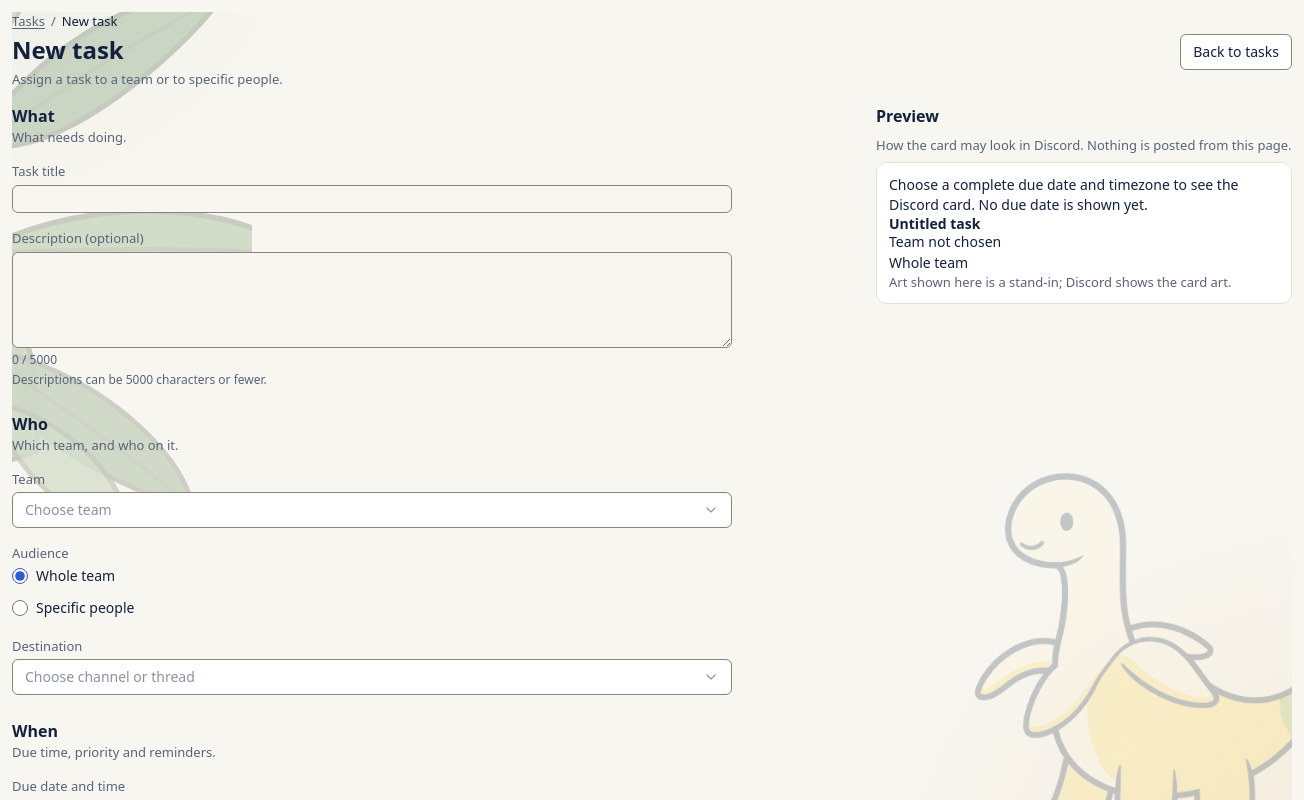
task creation › typing a title updates the card preview title
Check: the heading "Untitled task" is shown, box [889,214,980,233]
Type "Ship the poster" into the field labelled "Task title". click: (372, 199)
box: [12,185,732,213]
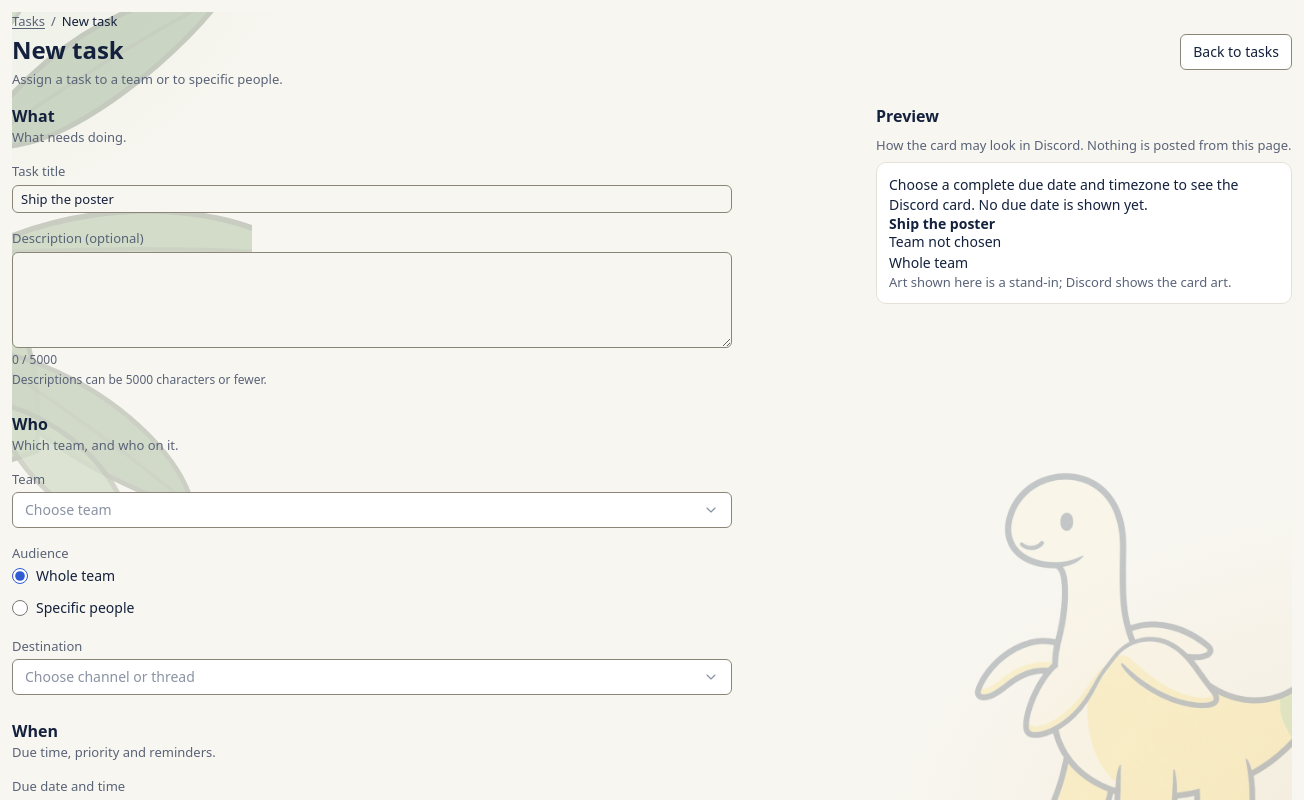
Check: the heading "Preview" is shown, box [876,105,939,127]
Check: the heading "Ship the poster" is shown, box [889,214,995,233]
